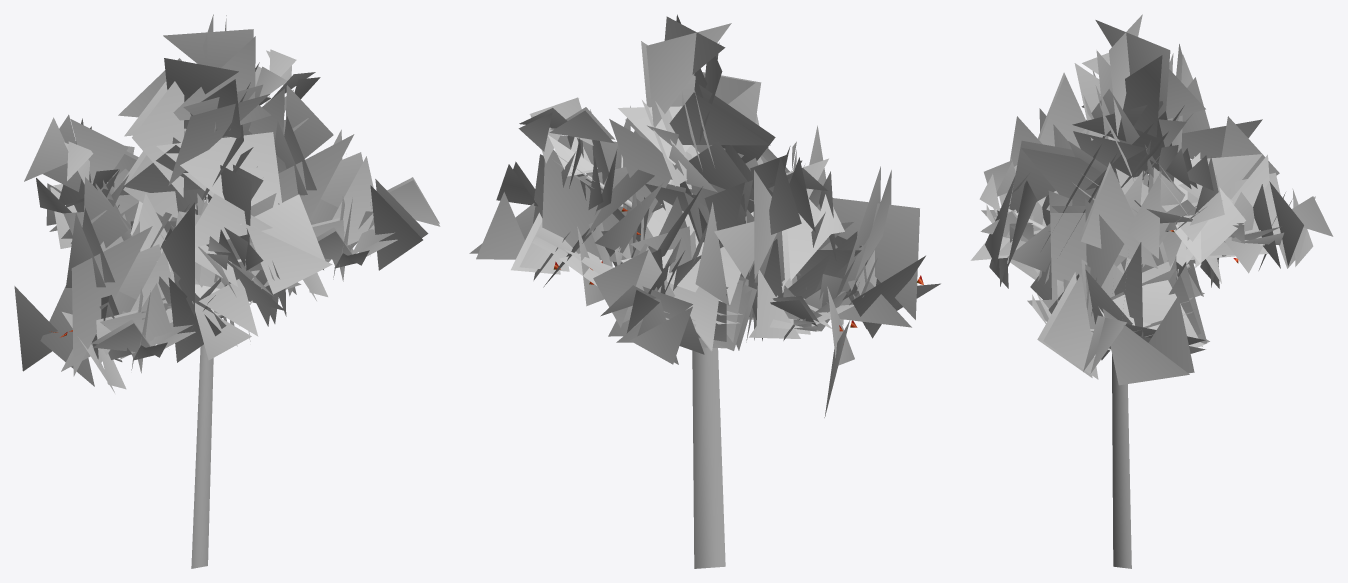
Rendered from tree apple single.fbx.
The picture shows the model from 3 angles, left to right: view 1: azimuth 30°, elevation 25°; view 2: azimuth 150°, elevation 25°; view 3: azimuth 270°, elevation 25°; orthographic projection.
Parts seen in each view (by area): view 1: tree; view 2: tree; view 3: tree.
Boxes of the visible parts, <box> form: tree: <box>14,14,440,568</box>; tree: <box>469,14,940,568</box>; tree: <box>970,14,1333,568</box>.
Size of the model in its own units: 983 by 1241 by 756.
